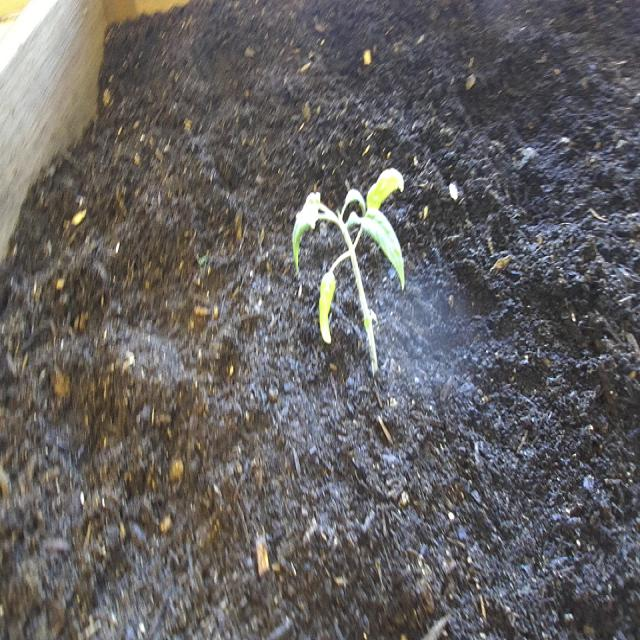Healthy: (284, 146, 424, 387)
